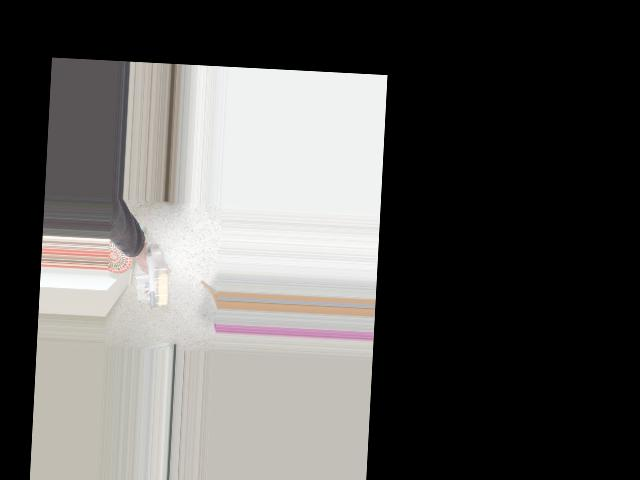cheese: (110, 254, 187, 310)
